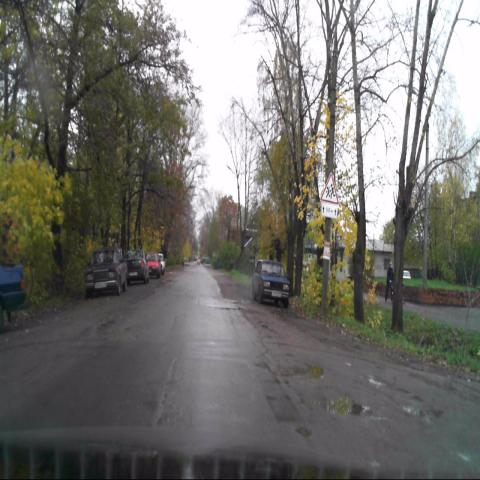8_2_1: (322, 202, 337, 218)
